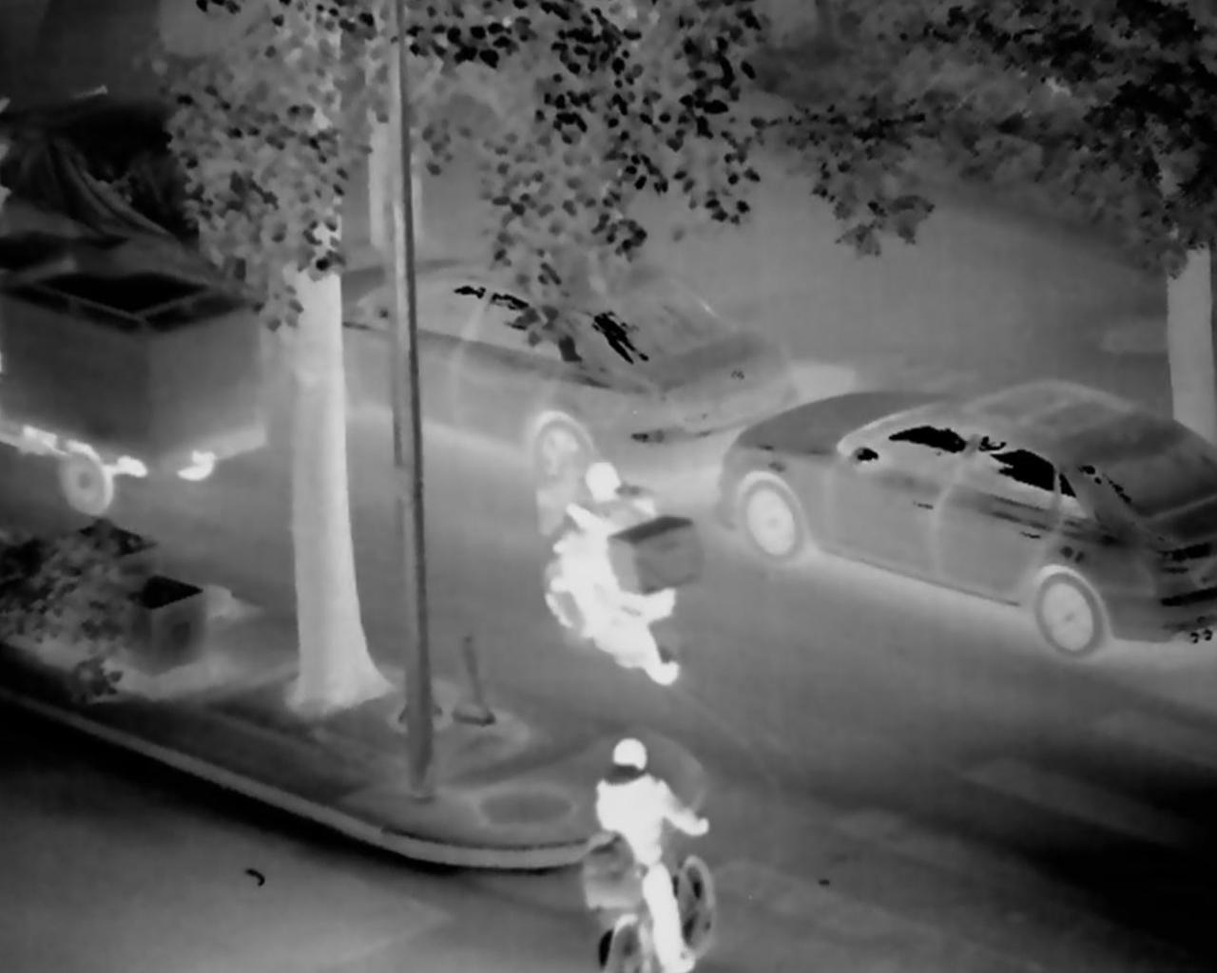person: (554, 737, 726, 973), (545, 458, 708, 683)
